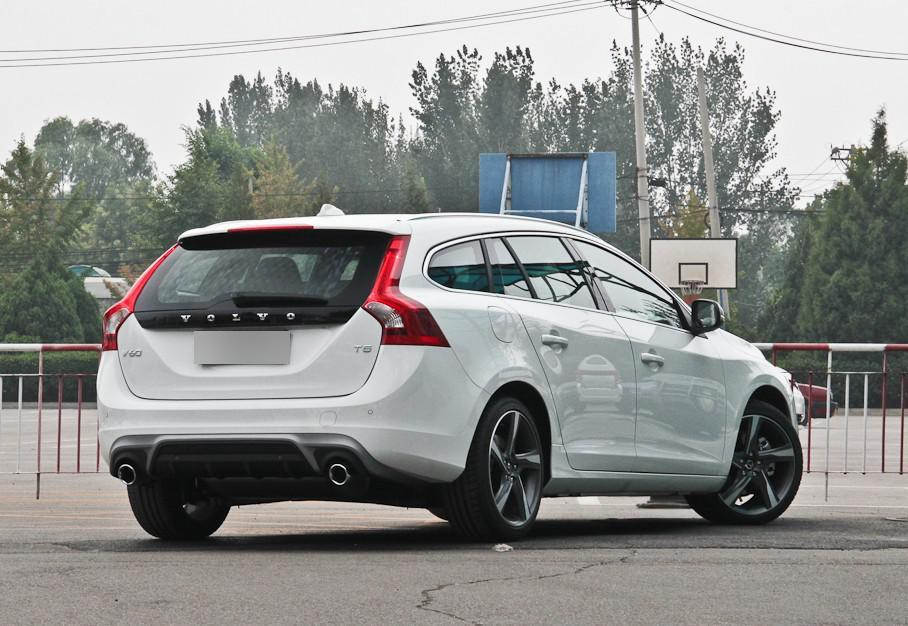Wagon: (95, 212, 803, 538)
